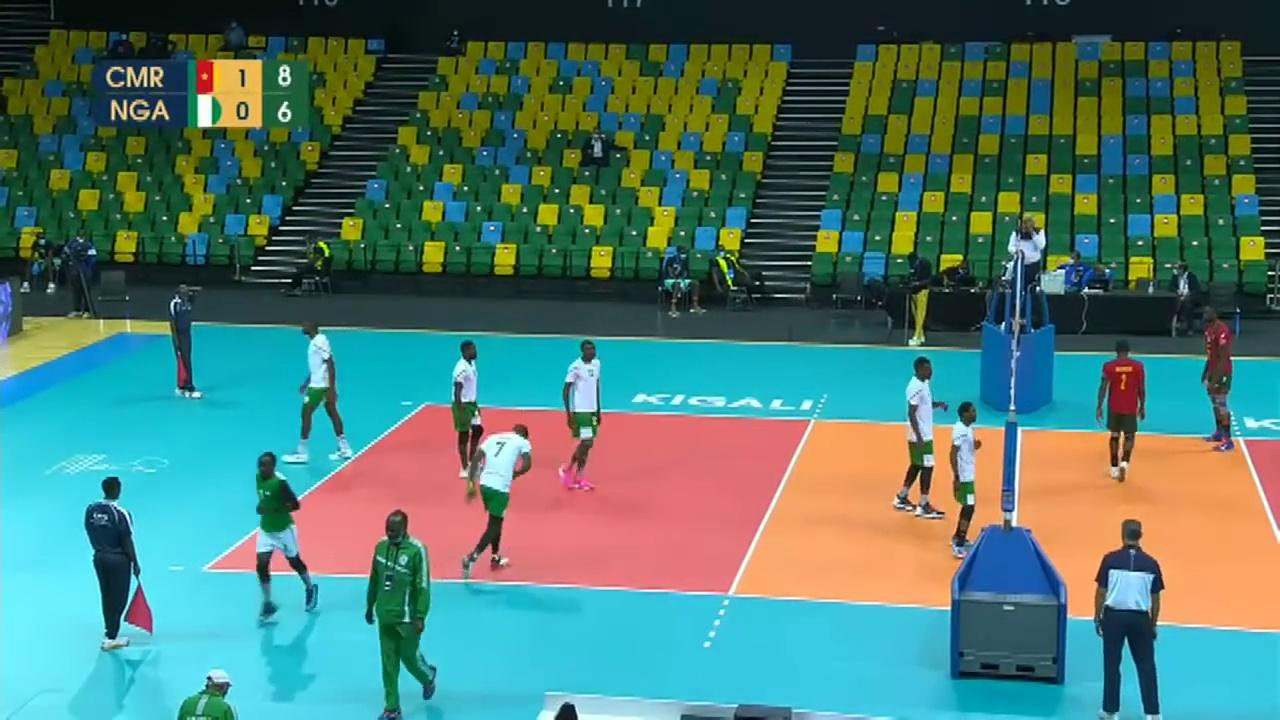player: (251, 454, 321, 616), (467, 422, 533, 568), (297, 323, 352, 454), (896, 360, 942, 513), (557, 343, 604, 490), (1098, 343, 1147, 480), (944, 400, 984, 554), (447, 340, 487, 482), (1200, 306, 1237, 447)
refree: (1094, 524, 1169, 716), (81, 481, 148, 643), (1006, 216, 1053, 326), (168, 285, 200, 399)
